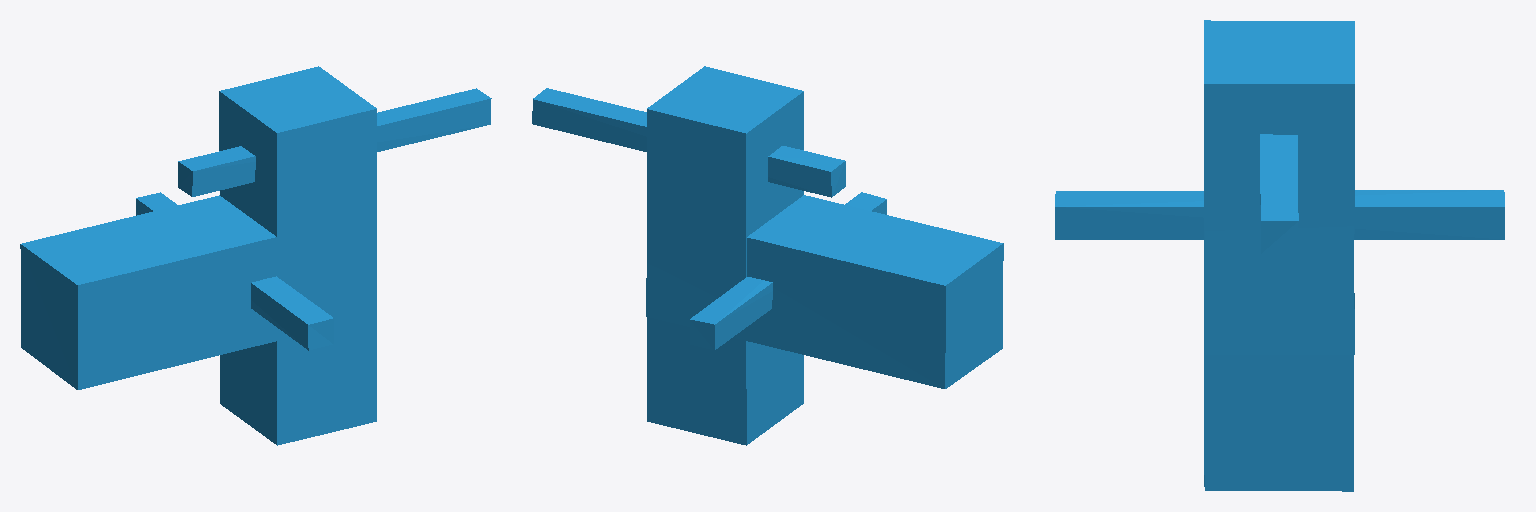
URDF robot description (procedural_obj_0007):
<?xml version="0.0" ?>
<!-- based on data/cube.urdf -->
<robot name="procedural_obj_0007">
  <link name="procedural_obj_0007">
    <contact>
      <lateral_friction value="1.0"/>
      <rolling_friction value="0.0"/>
      <contact_cfm value="0.0"/>
      <contact_erp value="1.0"/>
    </contact>
    <inertial>
      <origin rpy="0 0 0" xyz="0 0 0"/>
       <mass value="1.0"/>
       <inertia ixx="1" ixy="0" ixz="0" iyy="1" iyz="0" izz="1"/>
    </inertial>
    <visual>
      <origin rpy="0 0 0" xyz="0 0 0"/>
      <geometry>
	<mesh filename="0007.obj" scale="1 1 1"/>
      </geometry>
       <material name="random_colour">
        <color rgba="0.217 0.679 0.917 1"/>
      </material>
    </visual>
    <collision>
      <origin rpy="0 0 0" xyz="0 0 0"/>
      <geometry>
	<mesh filename="0007.vhacd.obj" scale="1 1 1"/>
      </geometry>
    </collision>
  </link>
</robot>

--- What the picture shows (computed from the rendered views, not written in the file) ---
The picture shows the robot from 3 angles, left to right: view 1: azimuth 30°, elevation 25°; view 2: azimuth 150°, elevation 25°; view 3: azimuth 270°, elevation 25°; orthographic projection.
Robot: procedural_obj_0007 — 1 links, 0 joints (none); root link procedural_obj_0007; default pose: all joints at 0.
Links seen in each view (by area): view 1: procedural_obj_0007; view 2: procedural_obj_0007; view 3: procedural_obj_0007.
Link boxes in pixels (x1,y1,x2,y2): procedural_obj_0007: (20, 66, 491, 445); procedural_obj_0007: (532, 66, 1003, 445); procedural_obj_0007: (1055, 20, 1504, 491).
Bounding box of the posed robot: 0.1311 × 0.0902 × 0.0901 m (x, y, z).
1 mesh visuals loaded from 1 distinct referenced files (1 OBJ).